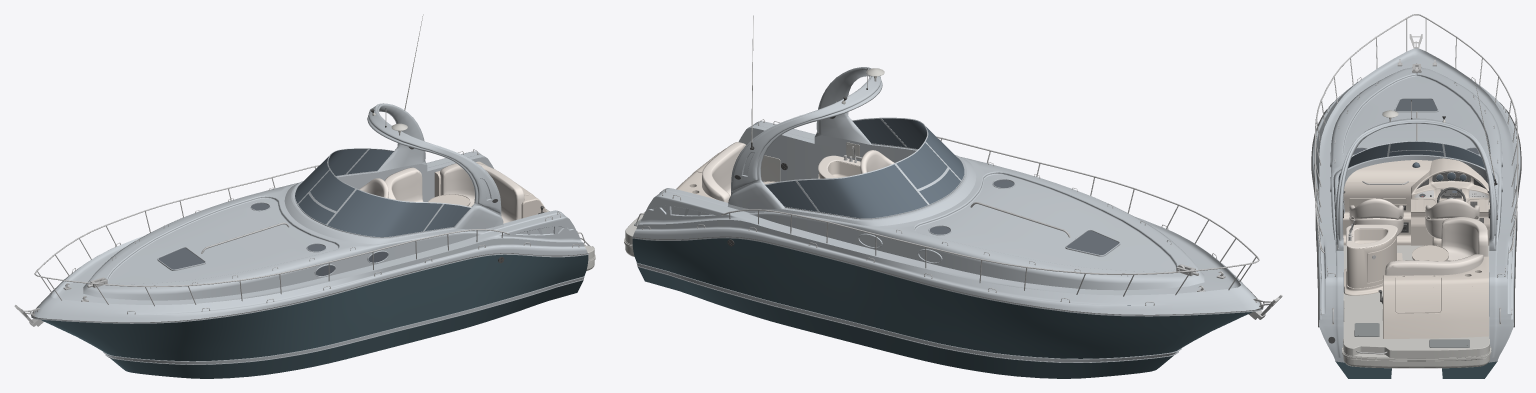
File: barco.gltf
3 views of the same model, side by side, from view 1: azimuth 30°, elevation 25°; view 2: azimuth 150°, elevation 25°; view 3: azimuth 270°, elevation 25° (orthographic). The views are drawn at different scales.
Visible parts, largest first — view 1: 355-01, 355-14, 355-28, 355-02, 355-15, 355-30, 355-27, 355-21; view 2: 355-01, 355-14, 355-02, 355-28, 355-15, 355-21, 355-27; view 3: 355-01, 355-27, 355-26, 355-65, 355-53, 355-51, 355-02, 355-30, 355-14, 355-28, 355-32, 355-29 (+8 smaller).
Boxes of the visible parts, box(x1,y1,x2,y2) form: 355-01: box(31, 103, 588, 378); 355-14: box(295, 149, 470, 237); 355-28: box(440, 163, 524, 223); 355-02: box(34, 165, 509, 306); 355-15: box(158, 203, 387, 275); 355-30: box(385, 167, 423, 201); 355-27: box(434, 161, 547, 218); 355-21: box(31, 253, 587, 322); 355-01: box(632, 67, 1263, 378); 355-14: box(765, 118, 964, 218); 355-02: box(721, 136, 1259, 296); 355-28: box(702, 142, 745, 202); 355-15: box(929, 180, 1119, 254); 355-21: box(632, 236, 1263, 315); 355-27: box(676, 148, 727, 202); 355-01: box(1311, 48, 1521, 378); 355-27: box(1383, 256, 1488, 338); 355-26: box(1337, 245, 1491, 368); 355-65: box(1343, 160, 1431, 245); 355-53: box(1411, 158, 1489, 245); 355-51: box(1344, 229, 1396, 295); 355-02: box(1314, 14, 1518, 253); 355-30: box(1441, 217, 1487, 261); 355-14: box(1338, 141, 1494, 181); 355-28: box(1385, 254, 1483, 275); 355-32: box(1349, 198, 1403, 235); 355-29: box(1425, 198, 1479, 238).
Size of the model in its own units: 29.28 by 12.97 by 9.71.
